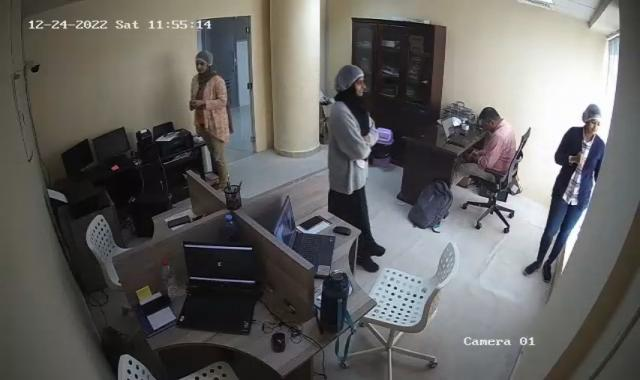hairnet: (336, 62, 366, 103), (580, 101, 604, 134), (193, 50, 214, 74)
no_hairnet: (478, 107, 502, 134)
